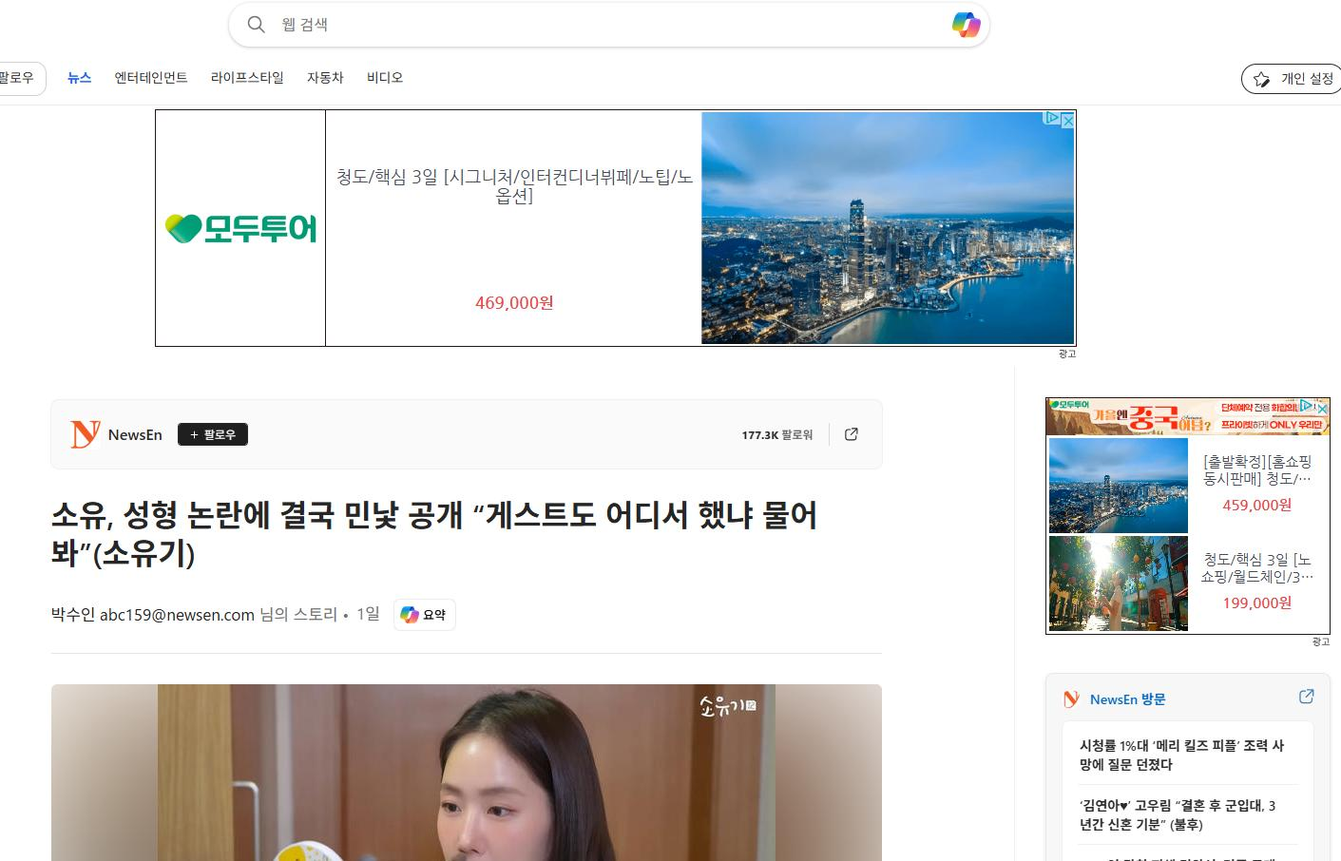button: (1241, 62, 1341, 101), (108, 63, 198, 95), (384, 598, 449, 636), (356, 67, 438, 94), (208, 69, 291, 91), (847, 429, 891, 466), (304, 65, 343, 88), (64, 67, 97, 89)
input_field: (221, 0, 987, 51)
popup: (151, 109, 1067, 353), (1049, 394, 1334, 640), (1045, 673, 1337, 861)
